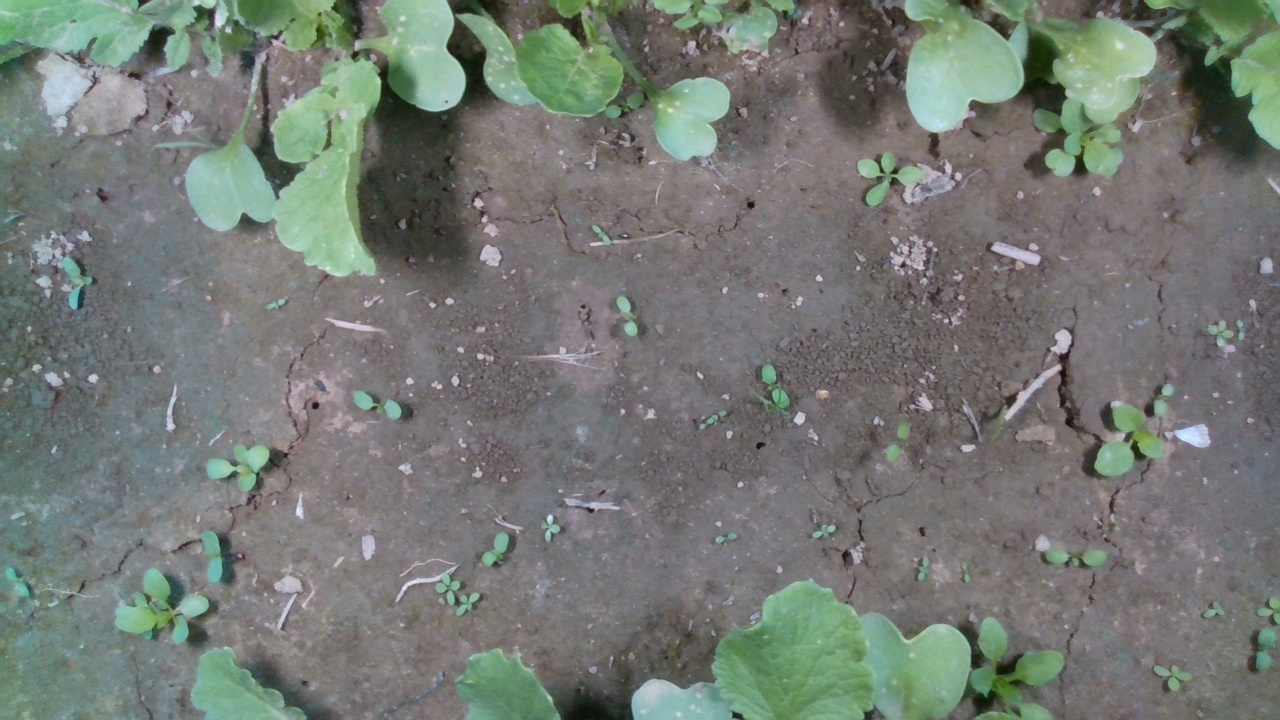weed: (853, 151, 928, 209), (203, 443, 272, 493), (350, 388, 405, 422), (61, 254, 93, 311), (197, 529, 226, 585), (883, 414, 913, 465), (1040, 547, 1108, 568), (610, 295, 641, 338), (1150, 662, 1194, 692), (1, 563, 35, 600), (1205, 317, 1236, 352), (1150, 382, 1176, 418), (540, 513, 563, 543), (590, 222, 615, 248), (808, 521, 838, 540), (1200, 599, 1228, 619), (1233, 316, 1249, 346), (912, 555, 931, 579), (712, 532, 739, 545)
